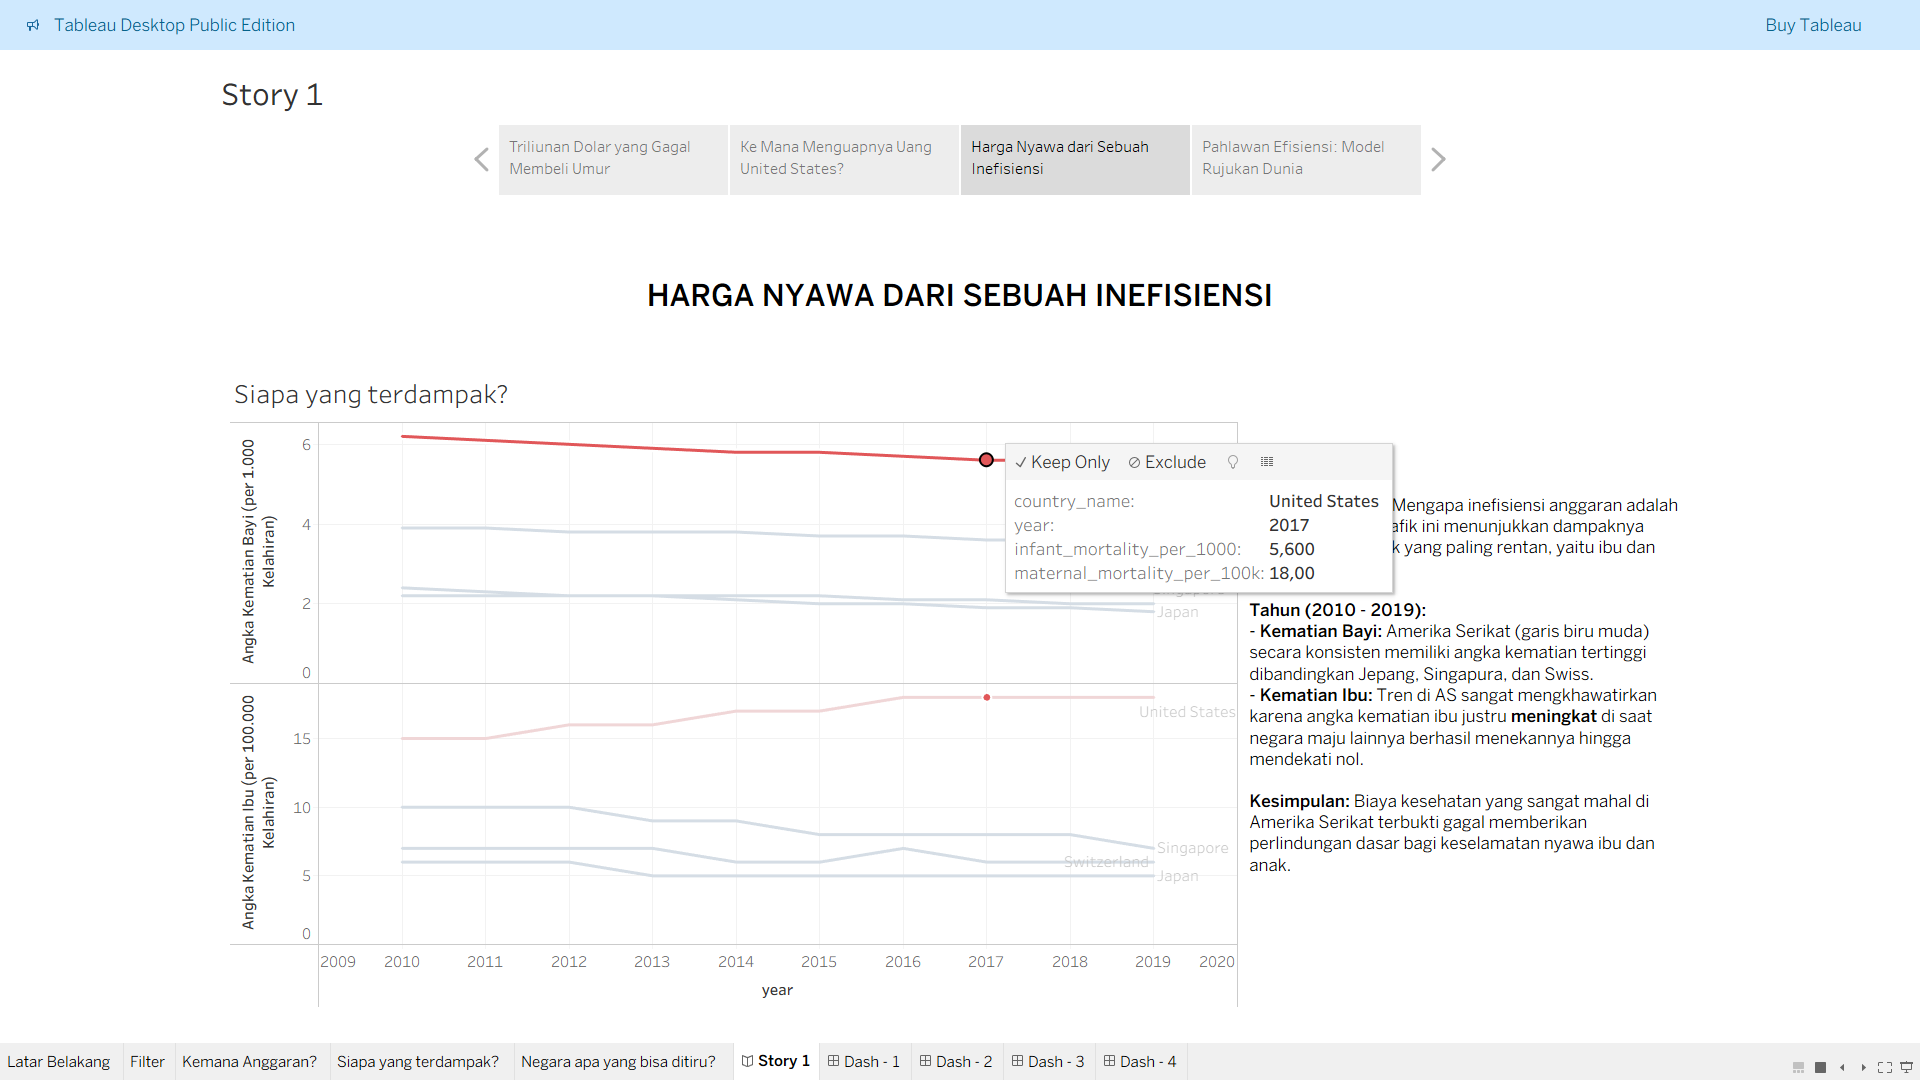

Layout of this report page (visuals, bound fields, positions):
{"tool":"tableau","page":{"name":"Dash - 3","canvas":[1016,964],"ordinal":2},"visuals":[{"type":"text","box":[8,8,1000,174]},{"type":"worksheet","title":"Siapa yang terdampak?","mark":"Automatic","rows":["infant_mortality_per_1000","maternal_mortality_per_100k"],"cols":["year"],"box":[8,182,692.4,774]},{"type":"text","box":[700.4,182,307.6,774]}]}

Visuals, with their boxes on the page's 1016x964 design canvas (x1, y1, x2, y2). These are canvas units, not pixel positions in the 1920x1080 screenshot, which may show the page scaled, cropped or inside an application window:
text: 8:8:1008:182
"Siapa yang terdampak?" worksheet: 8:182:700:956
text: 700:182:1008:956
